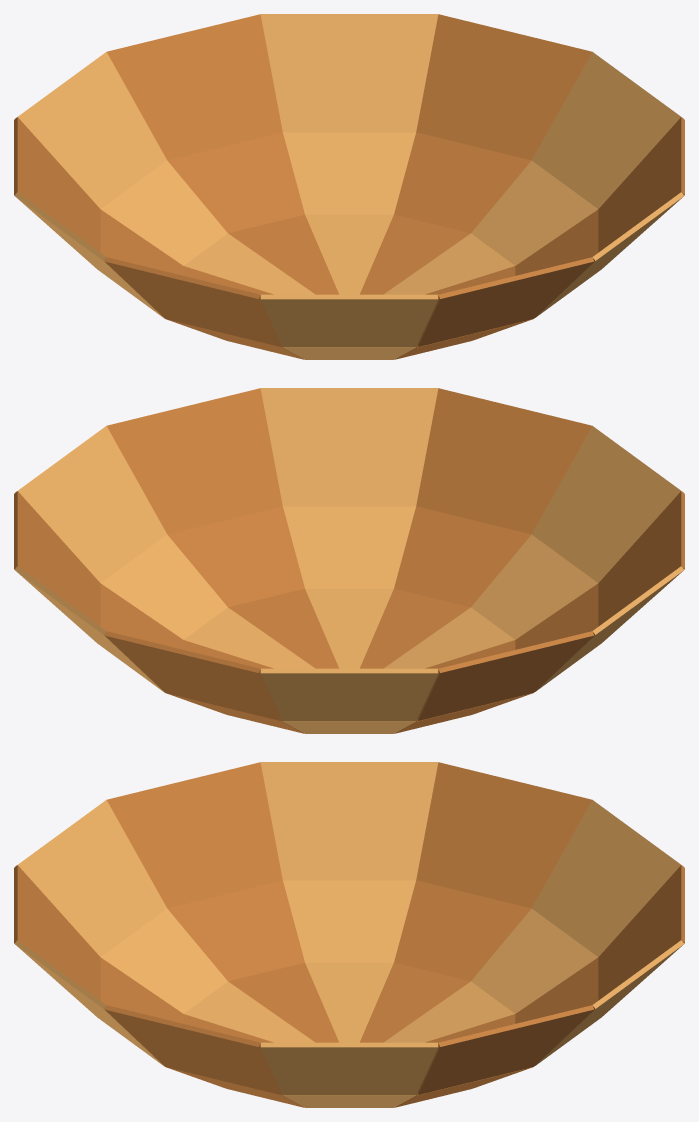
File: 內部圓弧傘面木板結構.obj
The picture shows the model from 3 angles, top to bottom: view 1: azimuth 30°, elevation 25°; view 2: azimuth 150°, elevation 25°; view 3: azimuth 270°, elevation 25°; orthographic projection.
Visible parts, largest first — view 1: R02-08_梯形/近梯形, R02-07_梯形/近梯形, R02-09_梯形/近梯形, R02-06_梯形/近梯形, R02-10_梯形/近梯形, R01-08_梯形/近梯形, R01-07_梯形/近梯形, R01-09_梯形/近梯形, R02-02_梯形/近梯形, R02-01_梯形/近梯形, R02-03_梯形/近梯形, R01-06_梯形/近梯形 (+17 smaller); view 2: R02-12_梯形/近梯形, R02-01_梯形/近梯形, R02-11_梯形/近梯形, R02-02_梯形/近梯形, R02-10_梯形/近梯形, R01-12_梯形/近梯形, R01-01_梯形/近梯形, R01-11_梯形/近梯形, R02-06_梯形/近梯形, R02-05_梯形/近梯形, R02-07_梯形/近梯形, R01-02_梯形/近梯形 (+17 smaller); view 3: R02-04_梯形/近梯形, R02-03_梯形/近梯形, R02-05_梯形/近梯形, R02-02_梯形/近梯形, R02-06_梯形/近梯形, R01-04_梯形/近梯形, R01-03_梯形/近梯形, R01-05_梯形/近梯形, R02-10_梯形/近梯形, R02-09_梯形/近梯形, R02-11_梯形/近梯形, R01-02_梯形/近梯形 (+17 smaller).
Boxes of the visible parts, bbox=[...] form: R02-08_梯形/近梯形: bbox=[260, 14, 438, 132]; R02-07_梯形/近梯形: bbox=[107, 14, 282, 160]; R02-09_梯形/近梯形: bbox=[416, 14, 591, 160]; R02-06_梯形/近梯形: bbox=[15, 52, 166, 208]; R02-10_梯形/近梯形: bbox=[532, 52, 683, 208]; R01-08_梯形/近梯形: bbox=[283, 132, 415, 214]; R01-07_梯形/近梯形: bbox=[167, 132, 304, 233]; R01-09_梯形/近梯形: bbox=[394, 132, 531, 233]; R02-02_梯形/近梯形: bbox=[260, 294, 438, 347]; R02-01_梯形/近梯形: bbox=[417, 257, 593, 346]; R02-03_梯形/近梯形: bbox=[105, 257, 281, 346]; R01-06_梯形/近梯形: bbox=[101, 160, 227, 265]; R02-12_梯形/近梯形: bbox=[260, 388, 438, 506]; R02-01_梯形/近梯形: bbox=[416, 388, 591, 534]; R02-11_梯形/近梯形: bbox=[107, 388, 282, 534]; R02-02_梯形/近梯形: bbox=[532, 426, 683, 582]; R02-10_梯形/近梯形: bbox=[15, 426, 166, 582]; R01-12_梯形/近梯形: bbox=[283, 506, 415, 588]; R01-01_梯形/近梯形: bbox=[394, 506, 531, 607]; R01-11_梯形/近梯形: bbox=[167, 506, 304, 607]; R02-06_梯形/近梯形: bbox=[260, 668, 438, 721]; R02-05_梯形/近梯形: bbox=[417, 631, 593, 720]; R02-07_梯形/近梯形: bbox=[105, 631, 281, 720]; R01-02_梯形/近梯形: bbox=[471, 534, 597, 639]; R02-04_梯形/近梯形: bbox=[260, 762, 438, 880]; R02-03_梯形/近梯形: bbox=[107, 762, 282, 908]; R02-05_梯形/近梯形: bbox=[416, 762, 591, 908]; R02-02_梯形/近梯形: bbox=[15, 800, 166, 956]; R02-06_梯形/近梯形: bbox=[532, 800, 683, 956]; R01-04_梯形/近梯形: bbox=[283, 880, 415, 962]; R01-03_梯形/近梯形: bbox=[167, 880, 304, 981]; R01-05_梯形/近梯形: bbox=[394, 880, 531, 981]; R02-10_梯形/近梯形: bbox=[260, 1042, 438, 1095]; R02-09_梯形/近梯形: bbox=[417, 1005, 593, 1094]; R02-11_梯形/近梯形: bbox=[105, 1005, 281, 1094]; R01-02_梯形/近梯形: bbox=[101, 908, 227, 1013].
Size of the model in its own units: 121 by 33.36 by 121.
